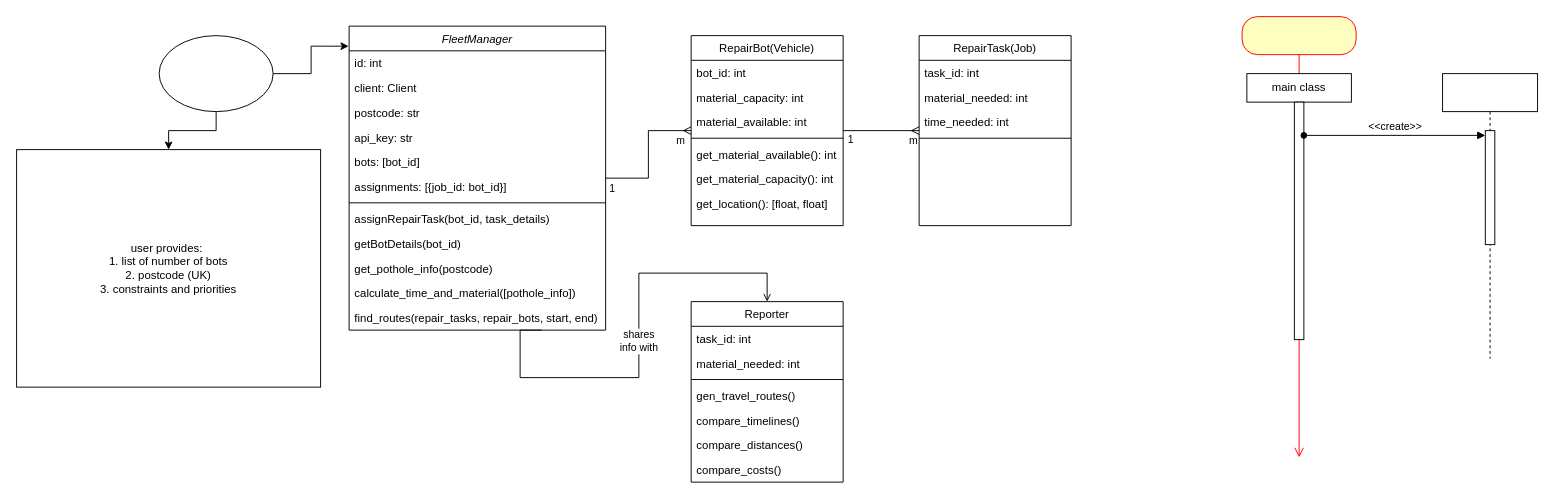
Image size: 1554x502. Some labels were removed from this diagram. Each missing label, with the centre of its shape:
":Object" belongs at point 1490,216.
"begin main()" belongs at point 215,73.
"initiate app" belongs at point 1298,35.
